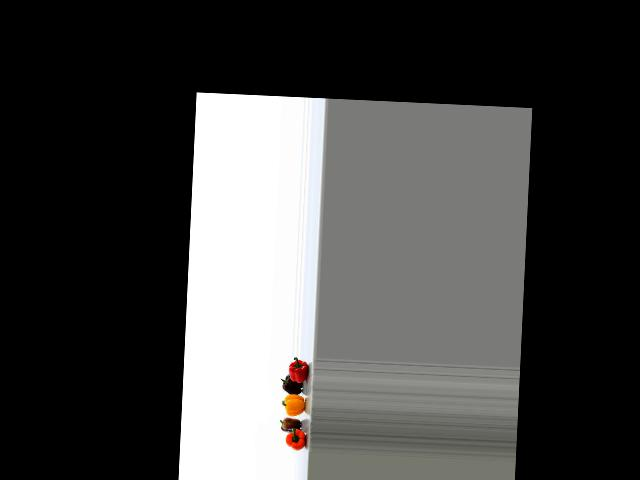bell_pepper: (278, 427, 309, 451)
